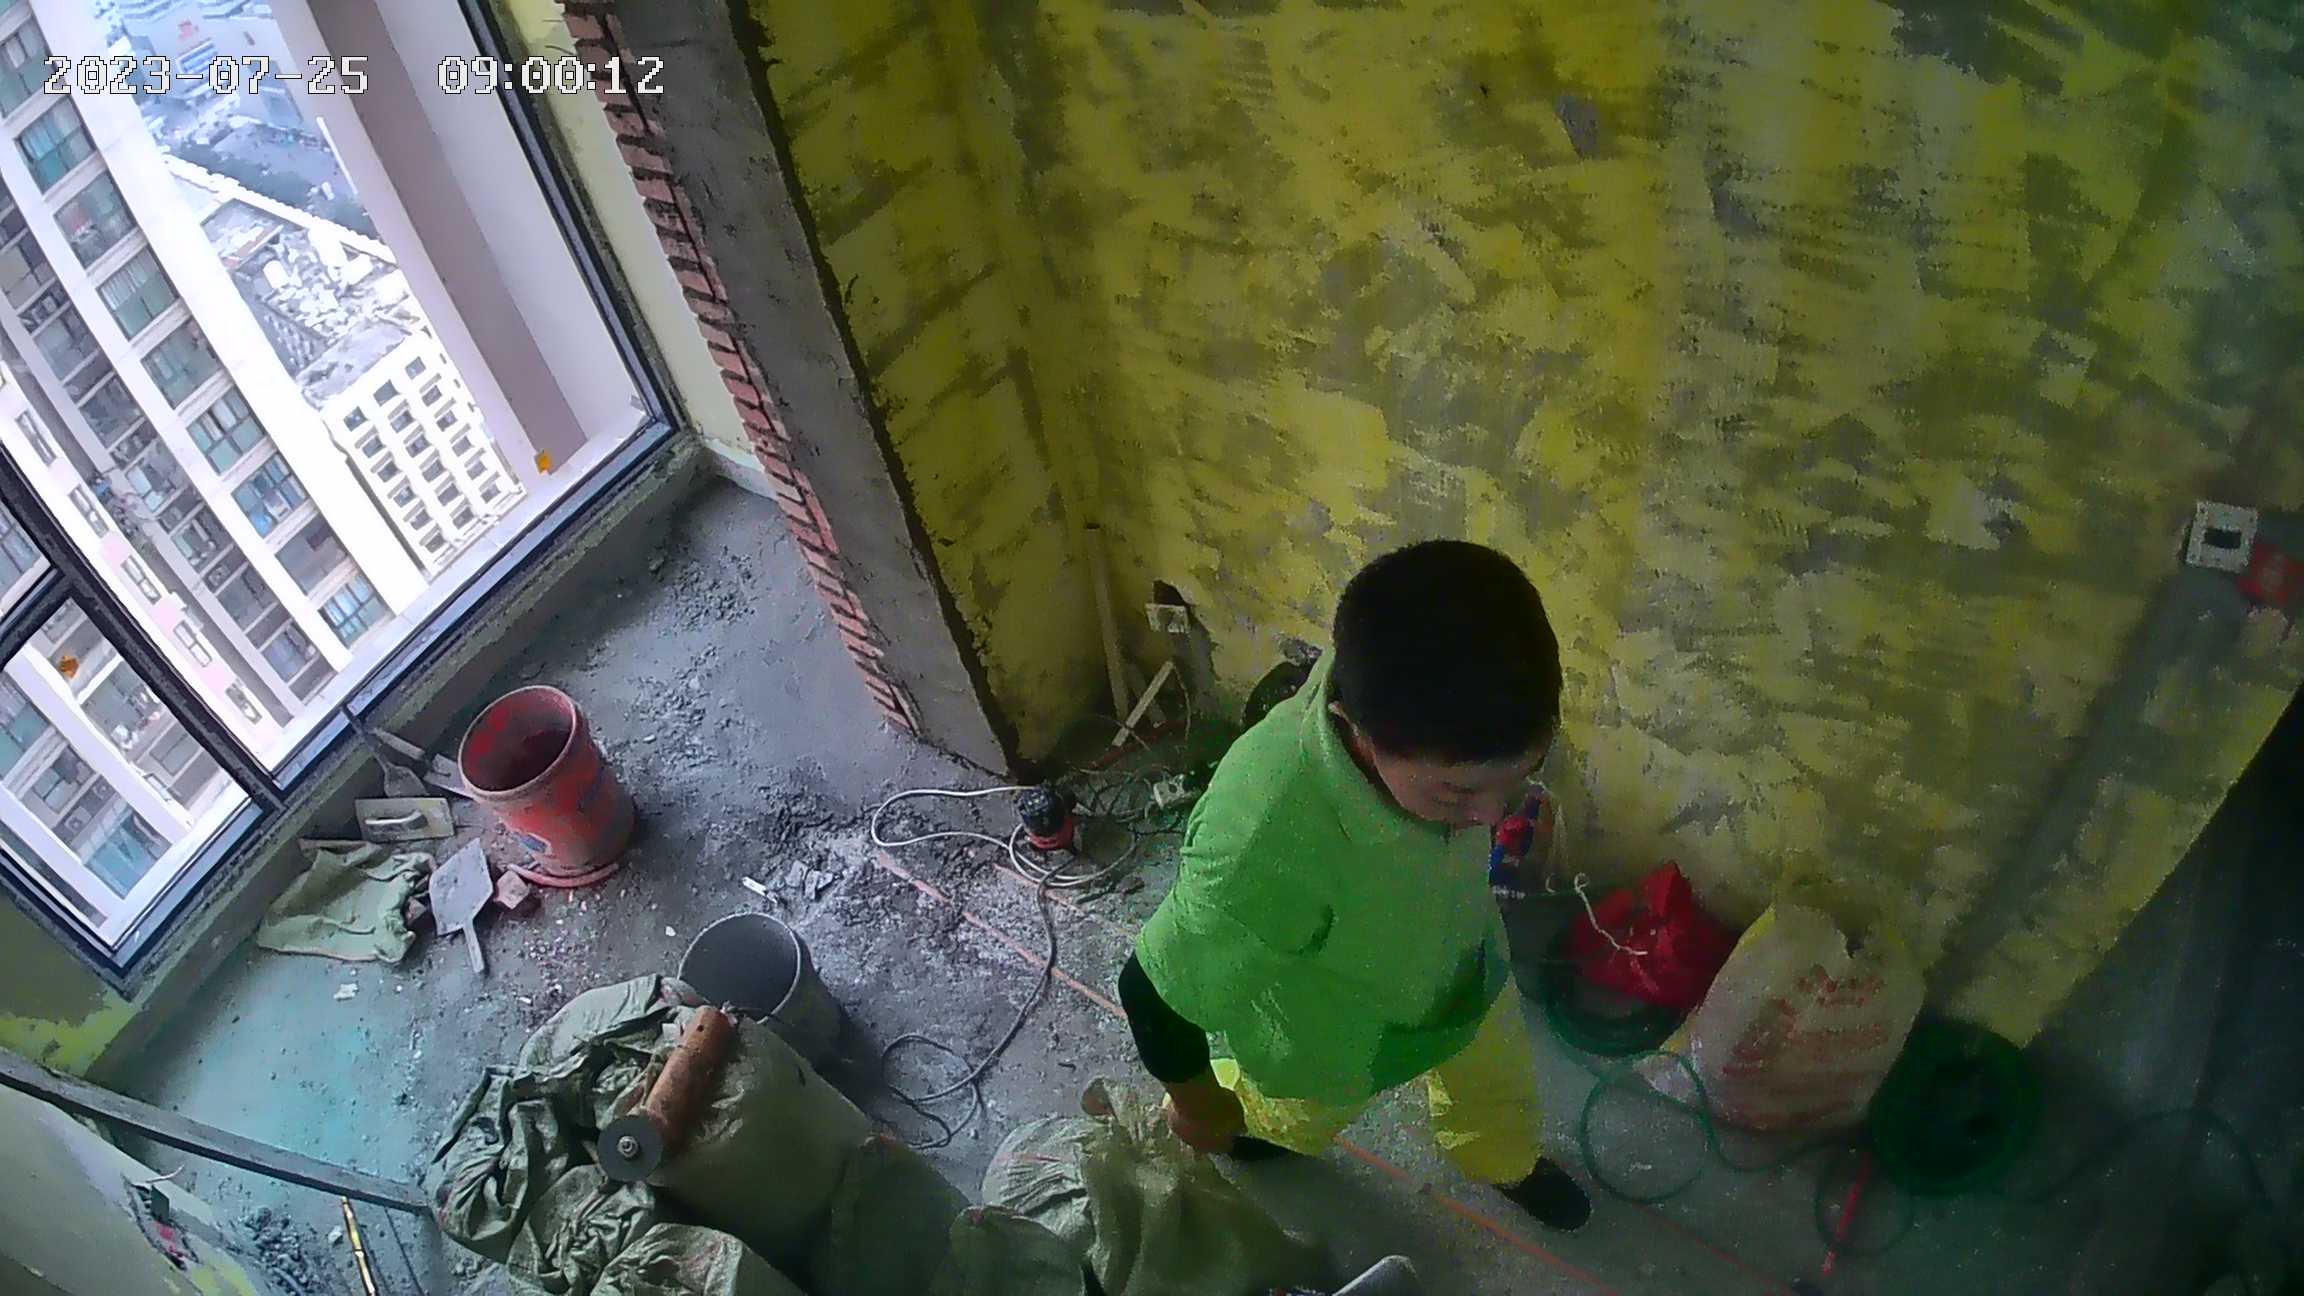people: (1119, 536, 1592, 1235)
window: (8, 8, 591, 983)
